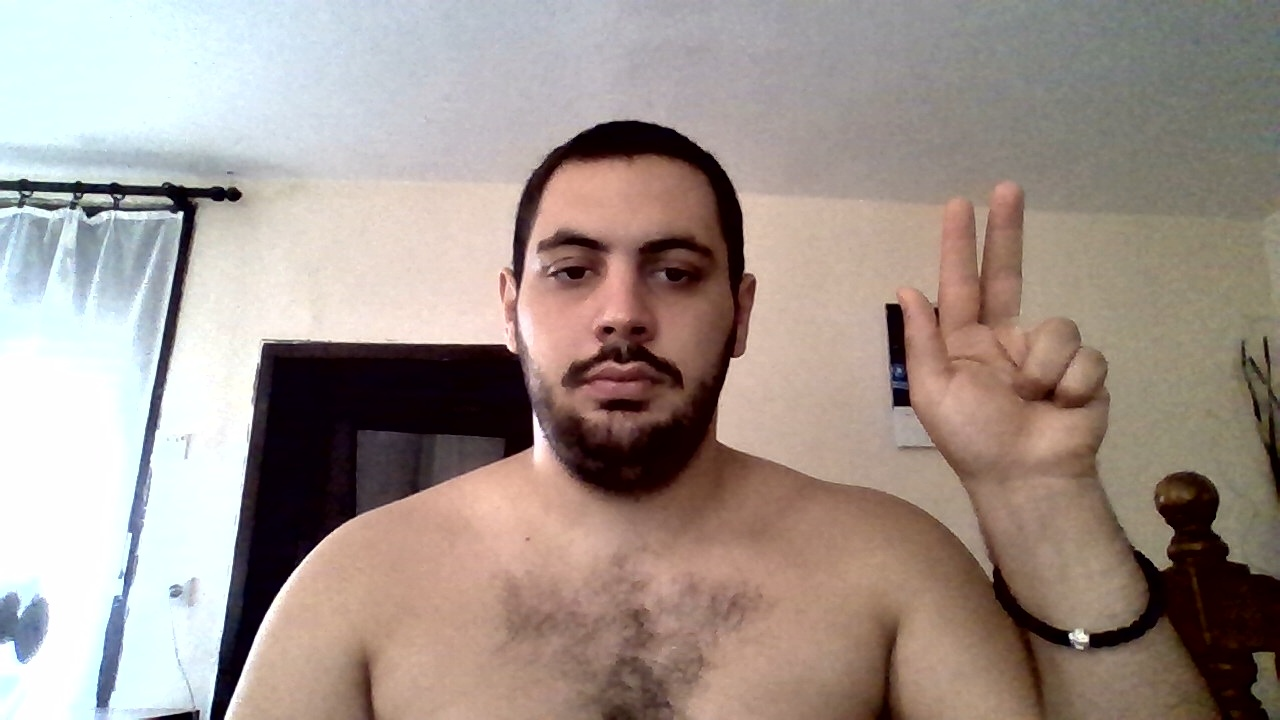serbia: (905, 178, 1117, 486)
